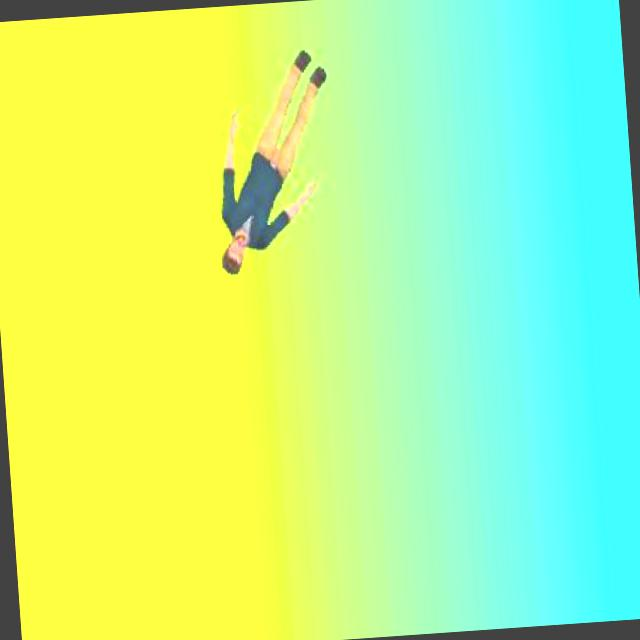Person: (203, 41, 343, 280)
